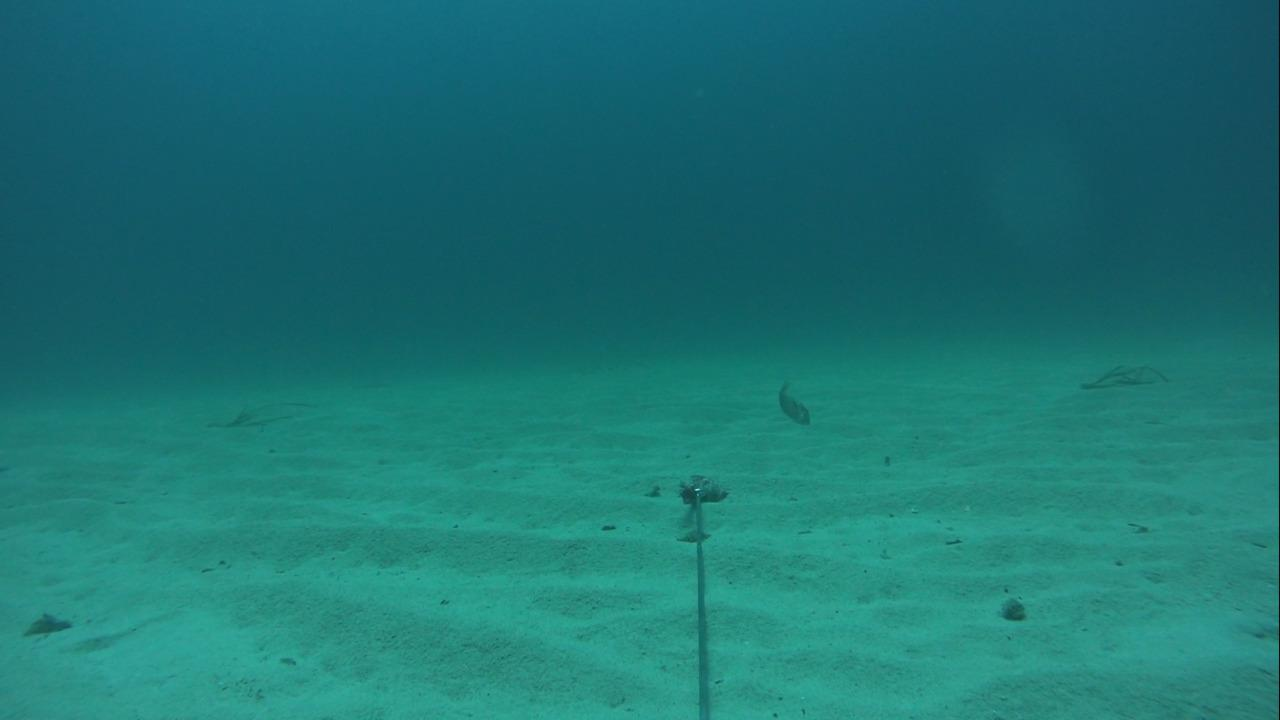raor: (768, 375, 812, 429)
